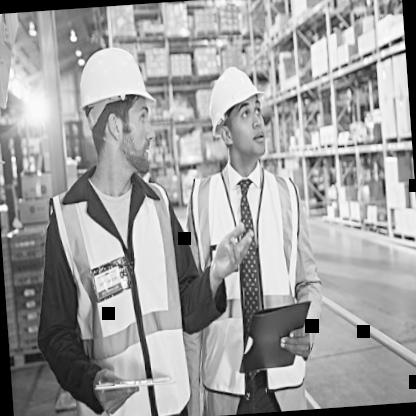helmet: (72, 29, 160, 182), (203, 51, 272, 172)
